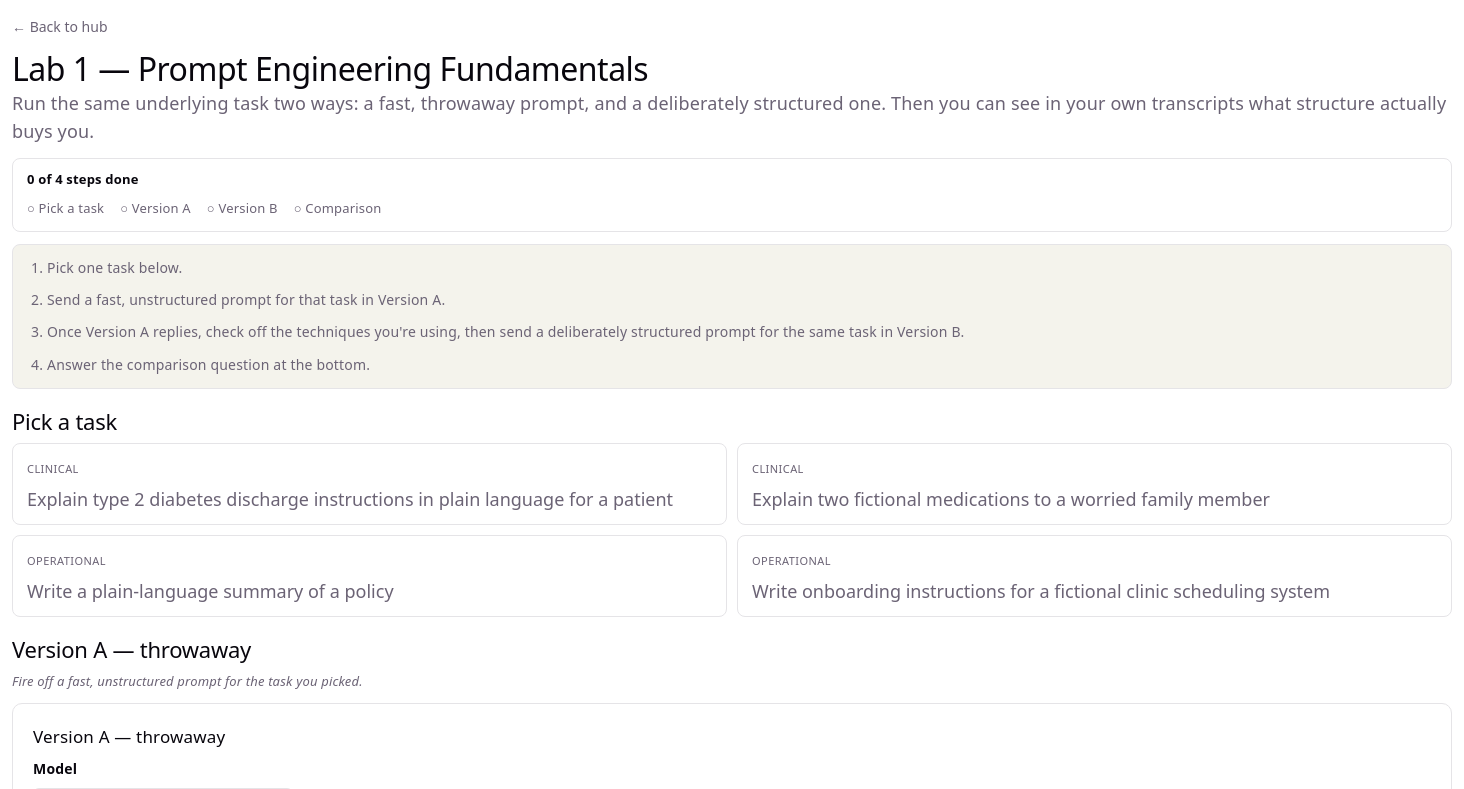
Test: Lab1 — progress indicator updates as work is done › increases the done count once a task is picked
Step 1. Click the text "Explain type 2 diabetes discharge instructions in plain language for a patient" → click(350, 499), box top-left (27, 486), bottom-right (673, 512)
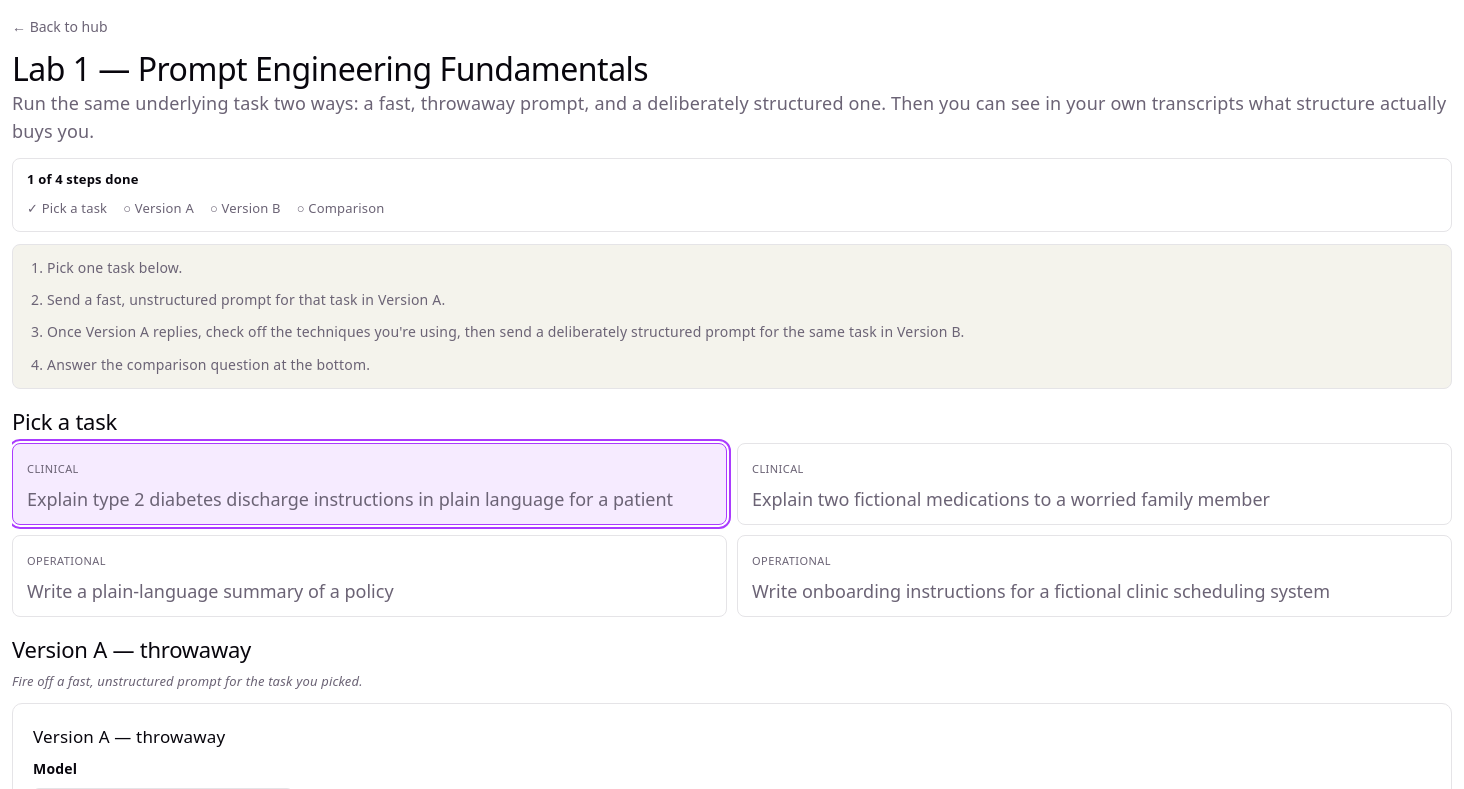
Now the element with test id "lab-progress" shows "1 of 4", box top-left (12, 158), bottom-right (1452, 232)
